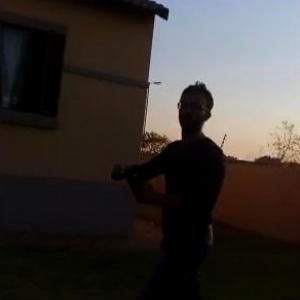follow: (106, 71, 226, 299)
